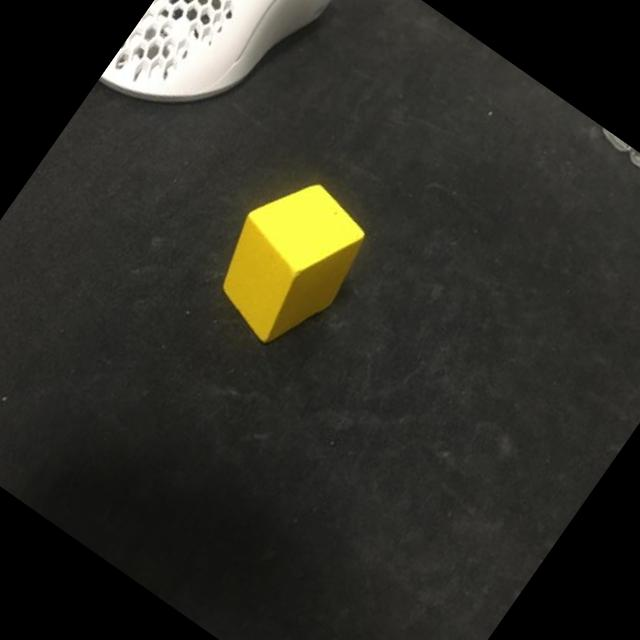yellow: (190, 160, 384, 364)
